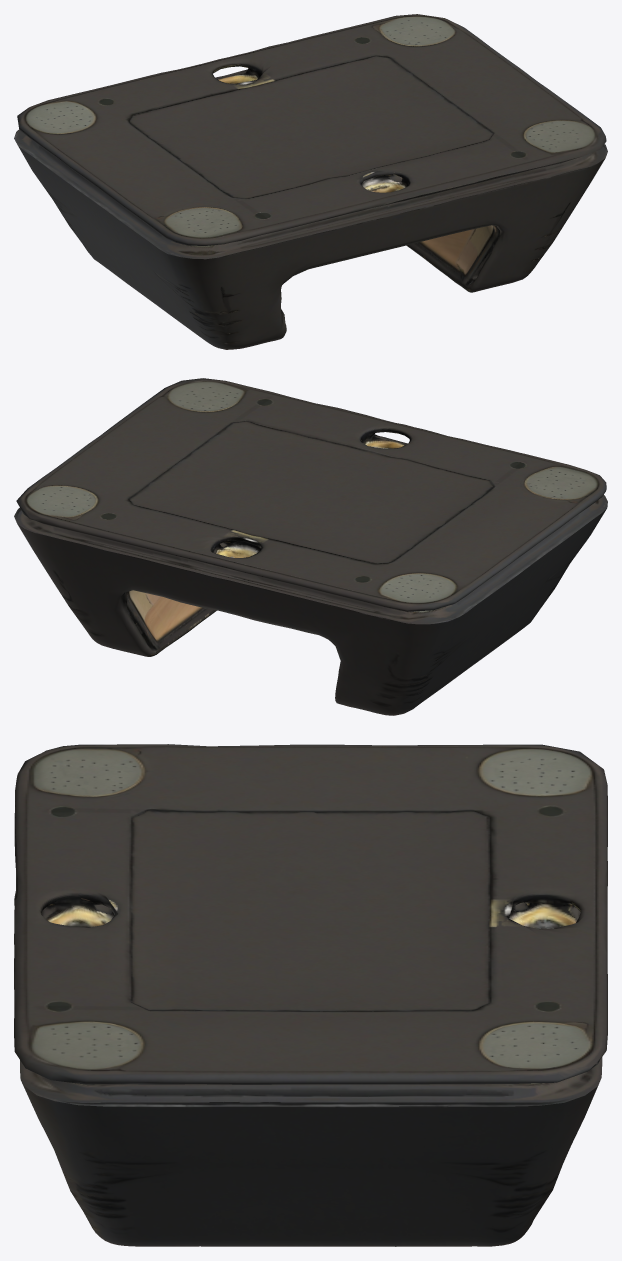
The model's file is i_need_a_fancy_lookin_1016113959_texture.fbx.
3 views of the same model, one above another, from view 1: azimuth 30°, elevation 25°; view 2: azimuth 150°, elevation 25°; view 3: azimuth 270°, elevation 25° (orthographic). The views are drawn at different scales.
Parts seen in each view (by area): view 1: Mesh0; view 2: Mesh0; view 3: Mesh0.
Part boxes in pixels (x1,y1,x2,y2): Mesh0: [14, 14, 607, 349]; Mesh0: [14, 378, 607, 715]; Mesh0: [14, 744, 607, 1246].
Bounding box in the file's own units: 191 × 58.28 × 142.
Materials: 1 (1 with a texture image).
